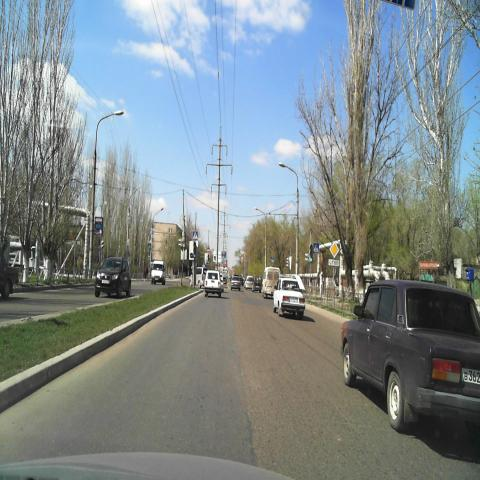2_1: (329, 240, 339, 258)
